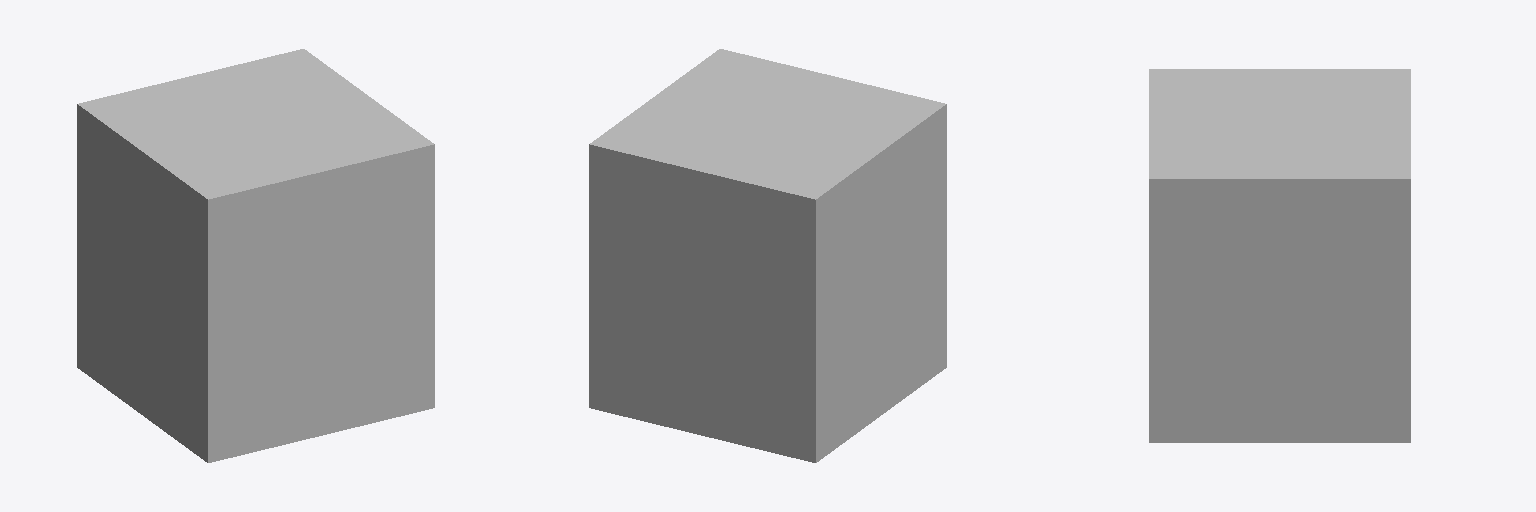
File: Bob_Head.obj
The picture shows the model from 3 angles: view 1: azimuth 30°, elevation 25°; view 2: azimuth 150°, elevation 25°; view 3: azimuth 270°, elevation 25°; orthographic projection.
Parts seen in each view (by area): view 1: ObjObject; view 2: ObjObject; view 3: ObjObject.
Boxes of the visible parts, box(x1,y1,x2,y2) form: ObjObject: box(77, 49, 434, 462); ObjObject: box(589, 49, 946, 462); ObjObject: box(1149, 69, 1410, 442).
Size of the model in its own units: 0.9 by 1 by 0.9.